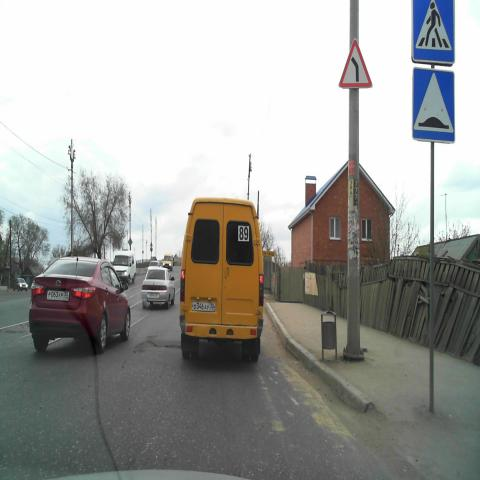1_11_1: (338, 35, 371, 89)
5_19_1: (411, 0, 457, 66)
5_20: (412, 66, 455, 145)
